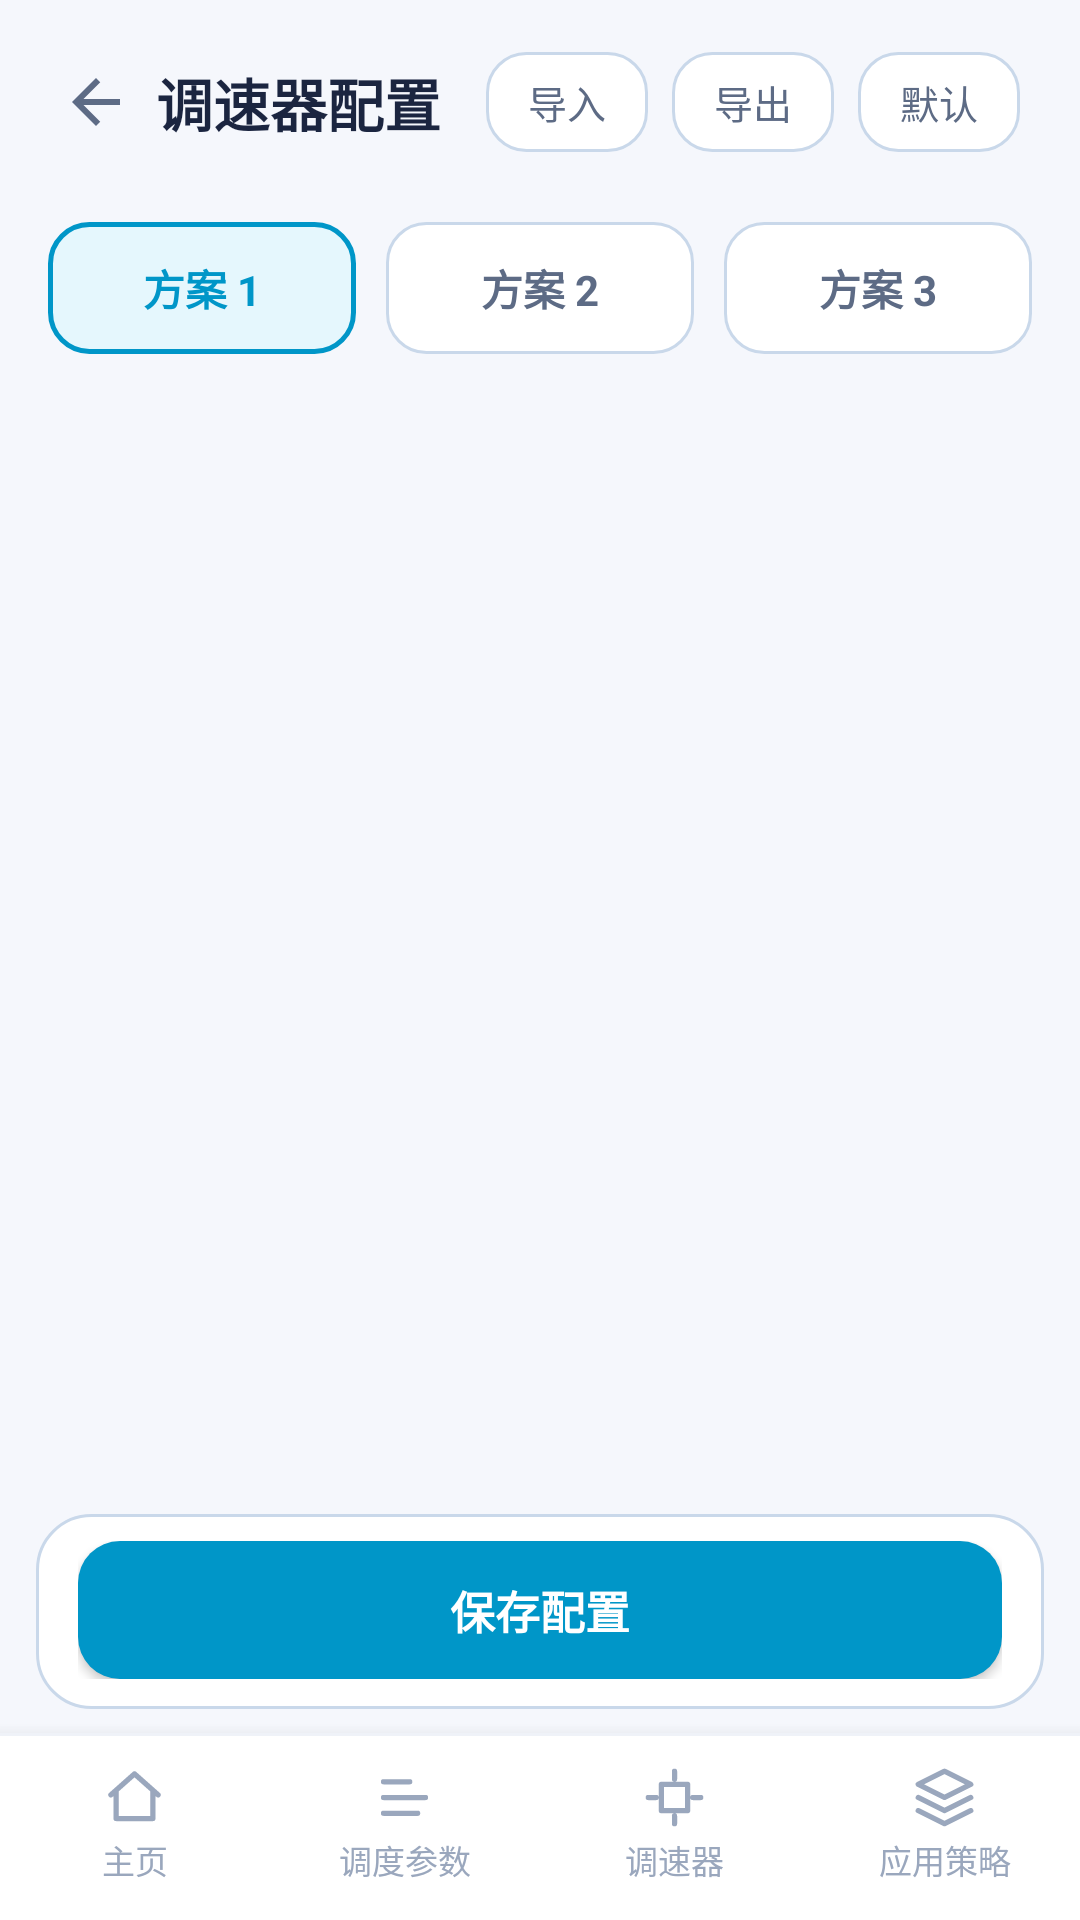

Named icons in this screenshot (1080*1920) and their bounding boxes, box(x1, y1, x2, y2):
返回: box(72, 78, 120, 126)
